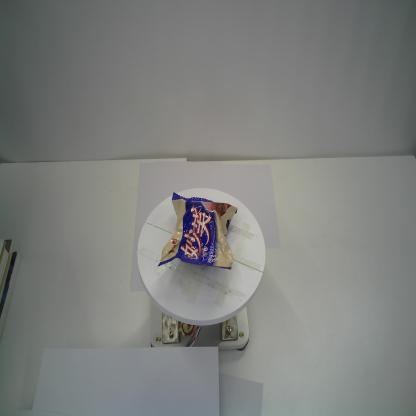Dessert: (154, 192, 240, 274)
